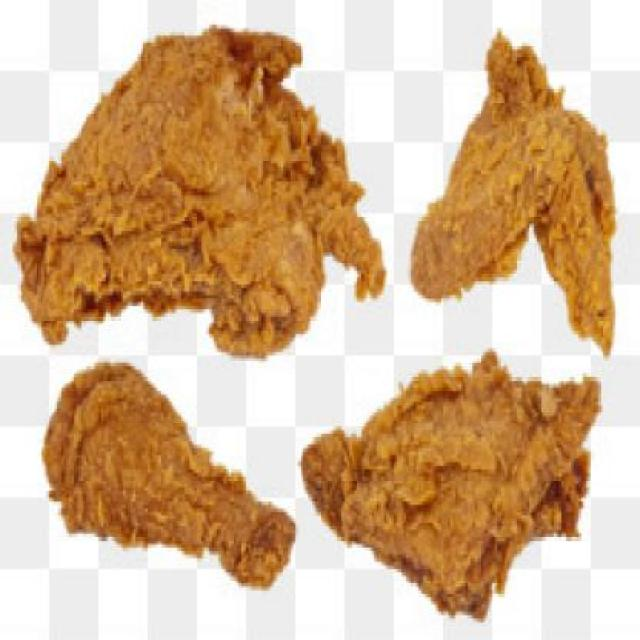Frango: (37, 57, 398, 363), (25, 380, 332, 580), (372, 384, 608, 622), (450, 50, 638, 345)
